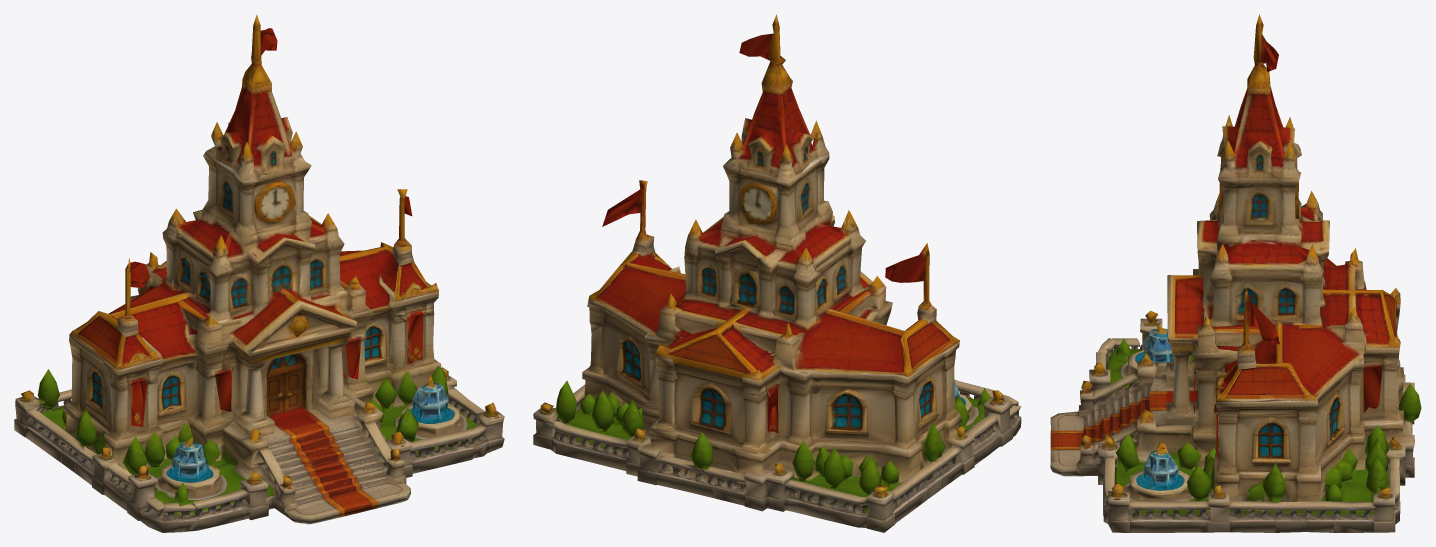
File: town_hall_stage4.glb
3 views of the same model, side by side, from view 1: azimuth 30°, elevation 25°; view 2: azimuth 150°, elevation 25°; view 3: azimuth 270°, elevation 25° (orthographic). The views are drawn at different scales.
Parts seen in each view (by area): view 1: tripo_node_92ac4066-5333-421e-ba9d-f08b7d834c75; view 2: tripo_node_92ac4066-5333-421e-ba9d-f08b7d834c75; view 3: tripo_node_92ac4066-5333-421e-ba9d-f08b7d834c75.
Part boxes in pixels (x1,y1,x2,y2): tripo_node_92ac4066-5333-421e-ba9d-f08b7d834c75: [14, 14, 504, 532]; tripo_node_92ac4066-5333-421e-ba9d-f08b7d834c75: [533, 14, 1021, 532]; tripo_node_92ac4066-5333-421e-ba9d-f08b7d834c75: [1050, 14, 1421, 532].
Size of the model in its own units: 0.8697 by 1 by 0.7762.
1 material, 1 textured.
